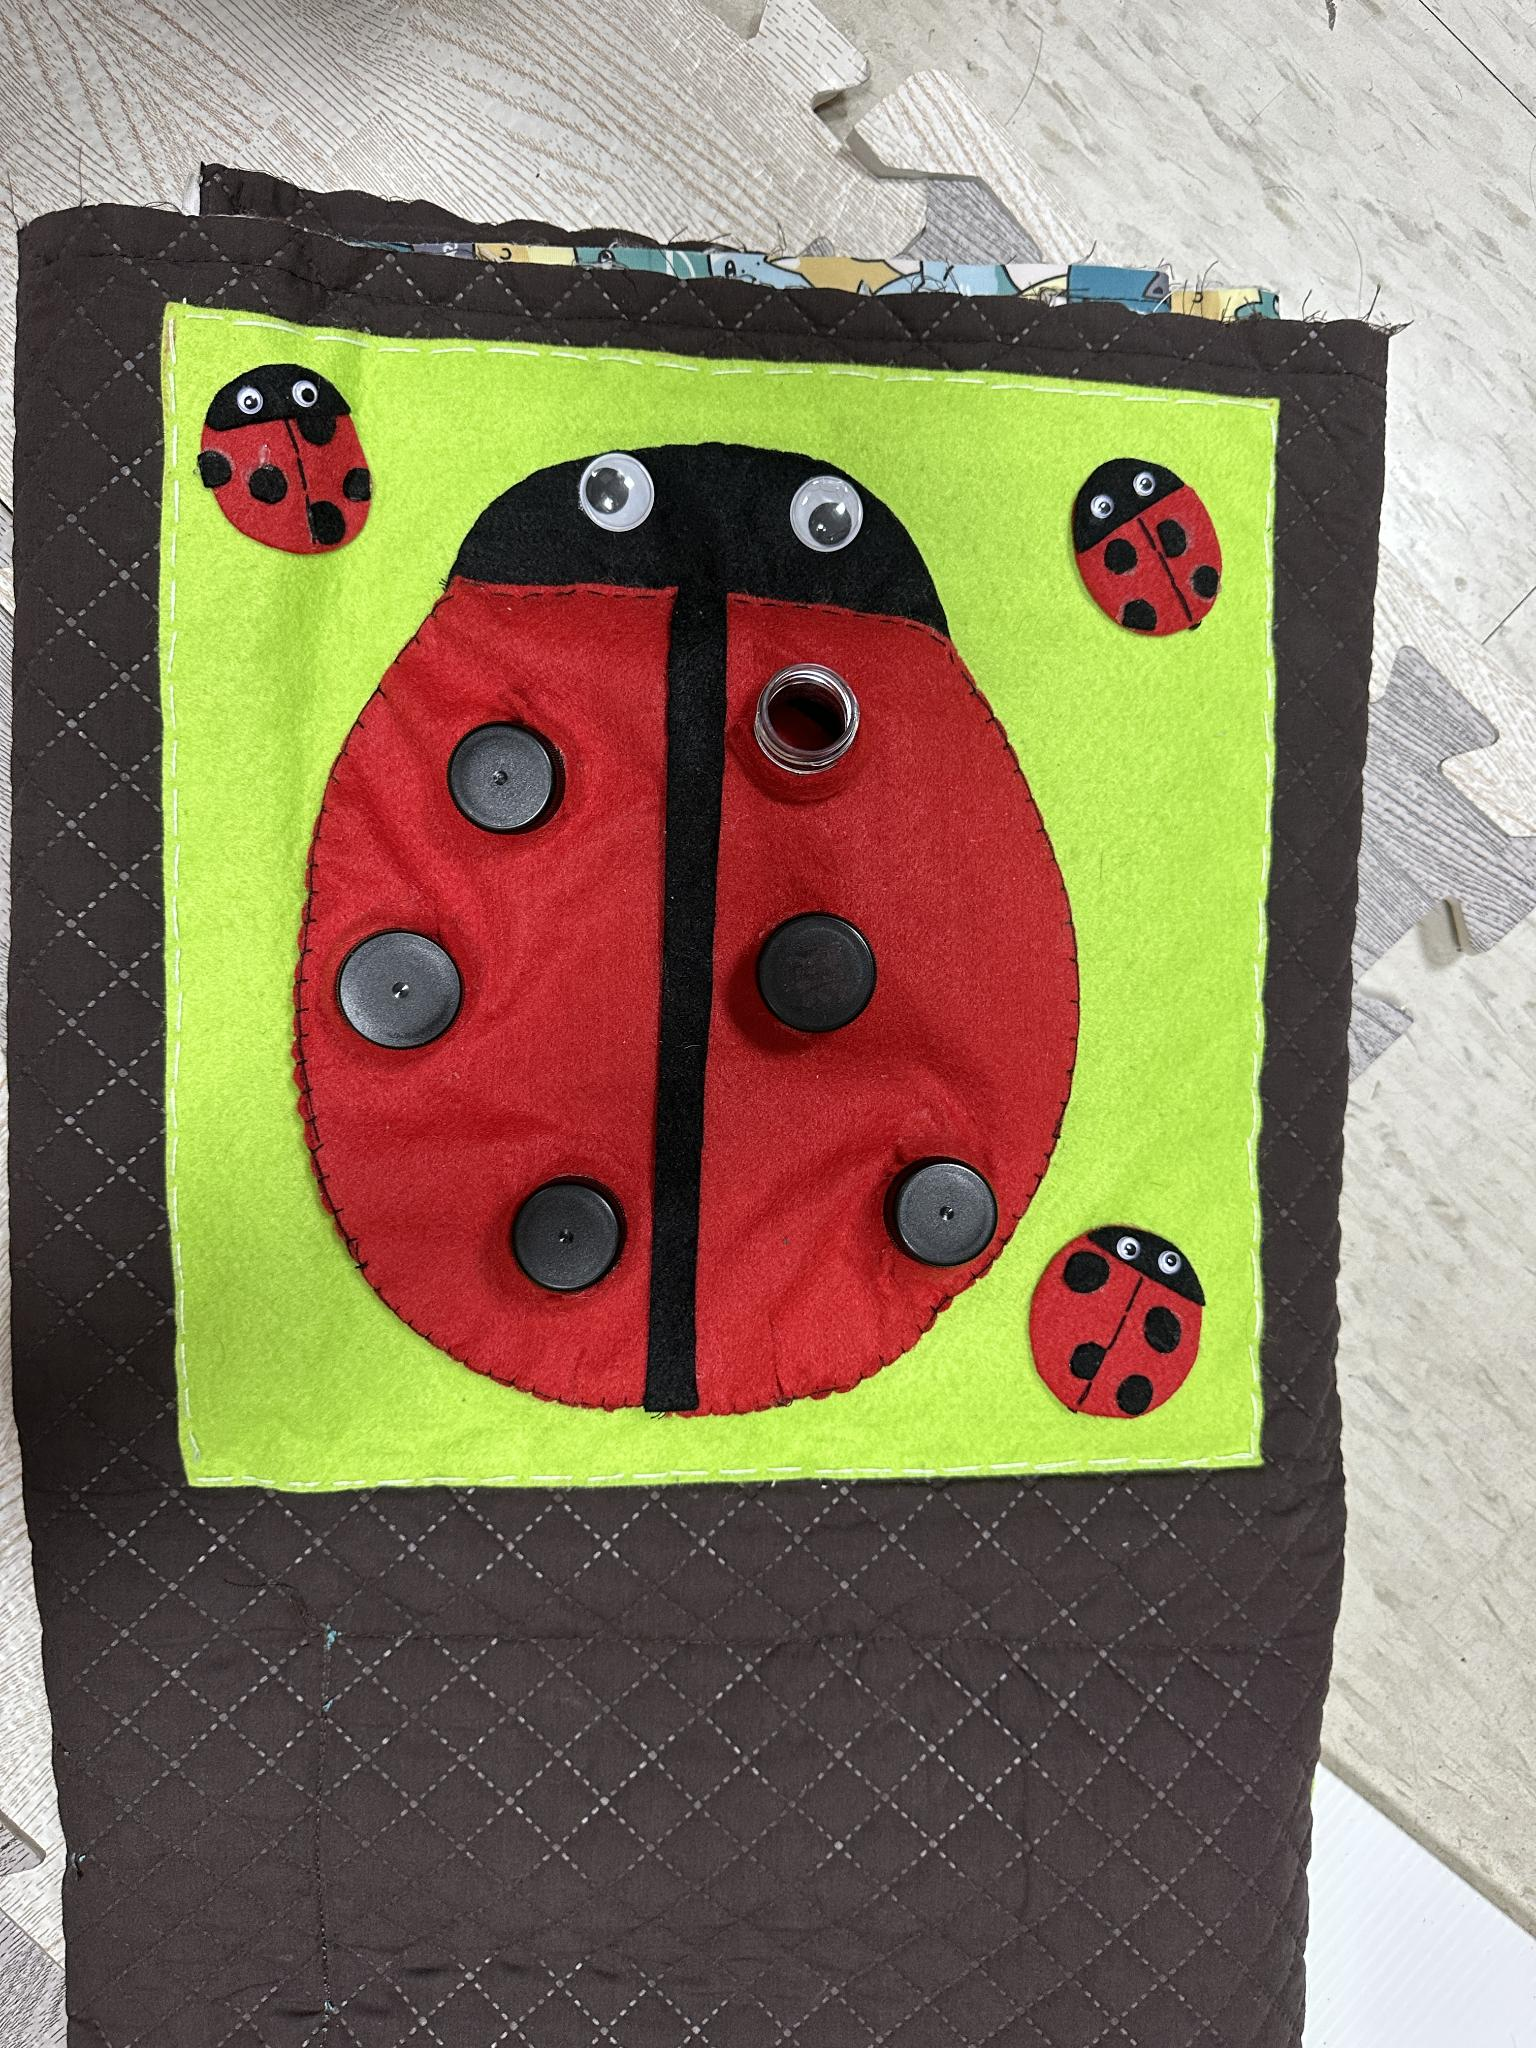cap_ok: (290, 918, 495, 1069), (460, 1150, 650, 1305), (739, 892, 904, 1045), (855, 1137, 1020, 1280), (432, 692, 579, 850)
